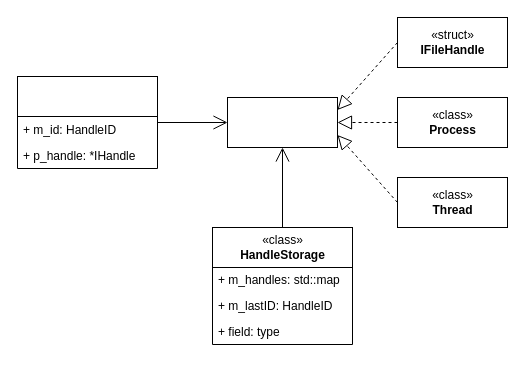
Image size: 525x365. Some labels were removed from this diagram. The shapes that lost their labels are listed below. From the top down, each one's centre as x and y in pixels, then its label:
At point (87, 96): "«class» HandleReference".
At point (282, 122): "«struct» IHandle".
